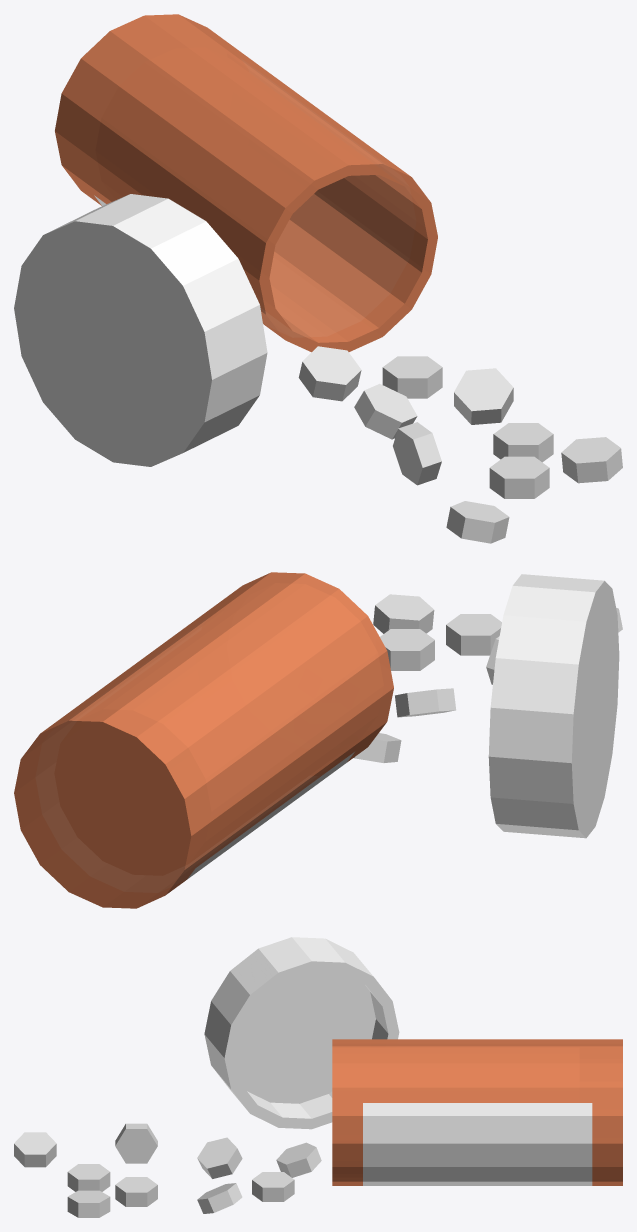
File: PillBottle_joined.fbx
3 views of the same model, one above another, from view 1: azimuth 30°, elevation 25°; view 2: azimuth 150°, elevation 25°; view 3: azimuth 270°, elevation 25° (orthographic). The views are drawn at different scales.
Parts seen in each view (by area): view 1: Cylinder, Cylinder.001, Cylinder.004, Cylinder.002, Cylinder.009, Cylinder.008, Cylinder.006, Cylinder.003, Cylinder.005, Cylinder.010, Cylinder.007; view 2: Cylinder, Cylinder.001, Cylinder.008, Cylinder.009, Cylinder.007, Cylinder.003, Cylinder.002; view 3: Cylinder, Cylinder.001, Cylinder.006, Cylinder.003, Cylinder.010, Cylinder.005, Cylinder.007, Cylinder.002, Cylinder.009, Cylinder.008, Cylinder.004.
Part boxes in pixels (x1,y1,x2,y2): Cylinder: [55, 14, 437, 352]; Cylinder.001: [14, 194, 267, 466]; Cylinder.004: [454, 368, 513, 424]; Cylinder.002: [298, 346, 361, 401]; Cylinder.009: [561, 437, 622, 483]; Cylinder.008: [489, 456, 549, 498]; Cylinder.006: [393, 422, 441, 485]; Cylinder.003: [354, 383, 417, 439]; Cylinder.005: [382, 356, 442, 398]; Cylinder.010: [446, 501, 509, 543]; Cylinder.007: [493, 423, 553, 462]; Cylinder: [14, 572, 393, 908]; Cylinder.001: [488, 574, 619, 838]; Cylinder.008: [446, 614, 501, 655]; Cylinder.009: [373, 594, 434, 633]; Cylinder.007: [380, 629, 434, 670]; Cylinder.003: [395, 688, 456, 717]; Cylinder.002: [354, 733, 401, 762]; Cylinder: [332, 1039, 622, 1185]; Cylinder.001: [204, 937, 399, 1129]; Cylinder.006: [115, 1123, 157, 1163]; Cylinder.003: [197, 1137, 242, 1178]; Cylinder.010: [14, 1132, 56, 1167]; Cylinder.005: [252, 1172, 294, 1201]; Cylinder.007: [115, 1177, 157, 1206]; Cylinder.002: [276, 1142, 321, 1177]; Cylinder.009: [67, 1190, 110, 1217]; Cylinder.008: [67, 1164, 110, 1191]; Cylinder.004: [197, 1183, 242, 1213].
Size of the model in its own units: 4.44 by 8.3 by 2.53.
